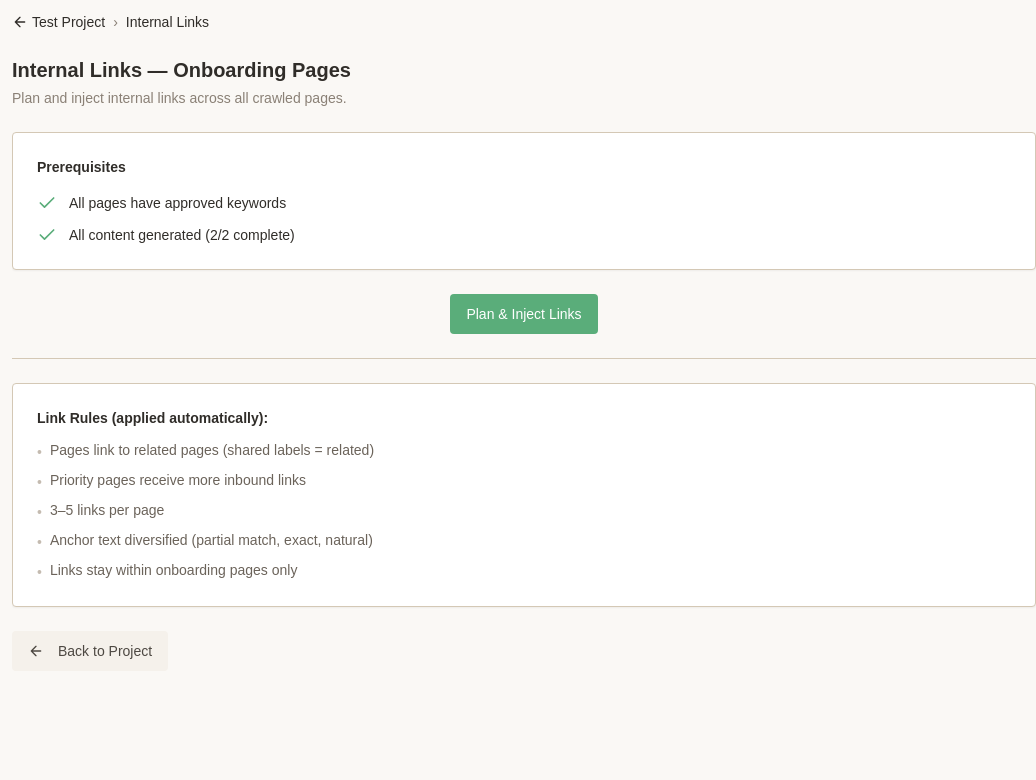
Test: OnboardingLinksPage › toast notifications › shows success toast on plan start
What coordinates should you click on to do the following:
click the button "Plan & Inject Links"
I would click on:
 (524, 314)
Its box is [450,294,598,334].
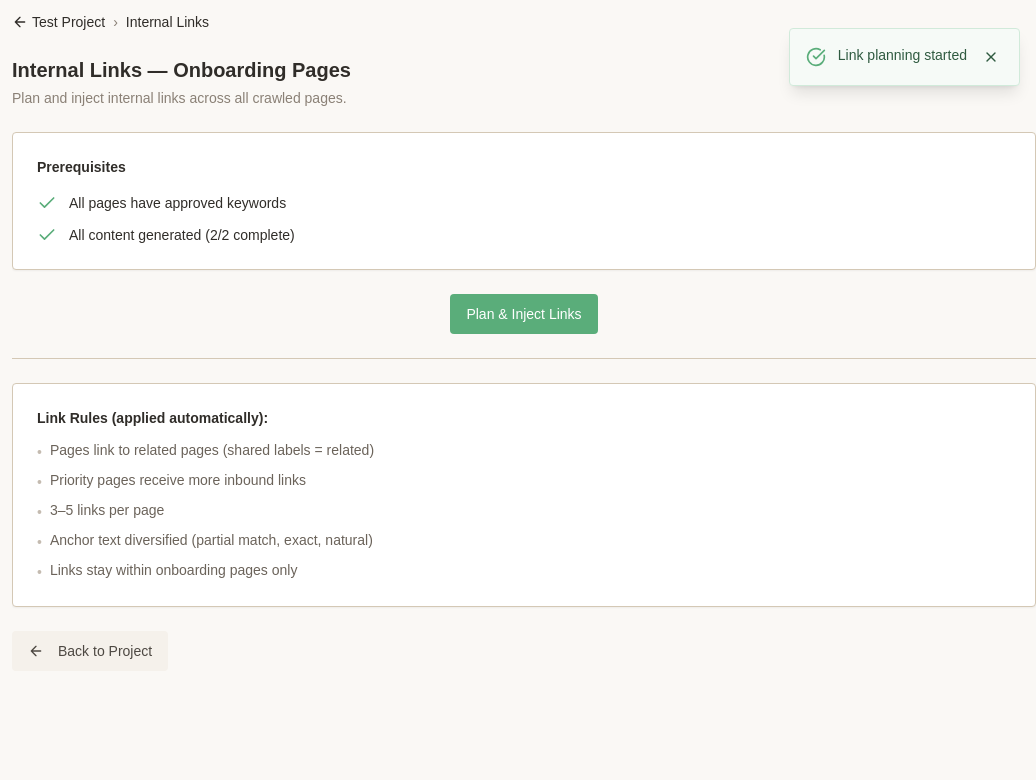
Check: the text "Link planning started" is shown, box [838,45,967,65]
